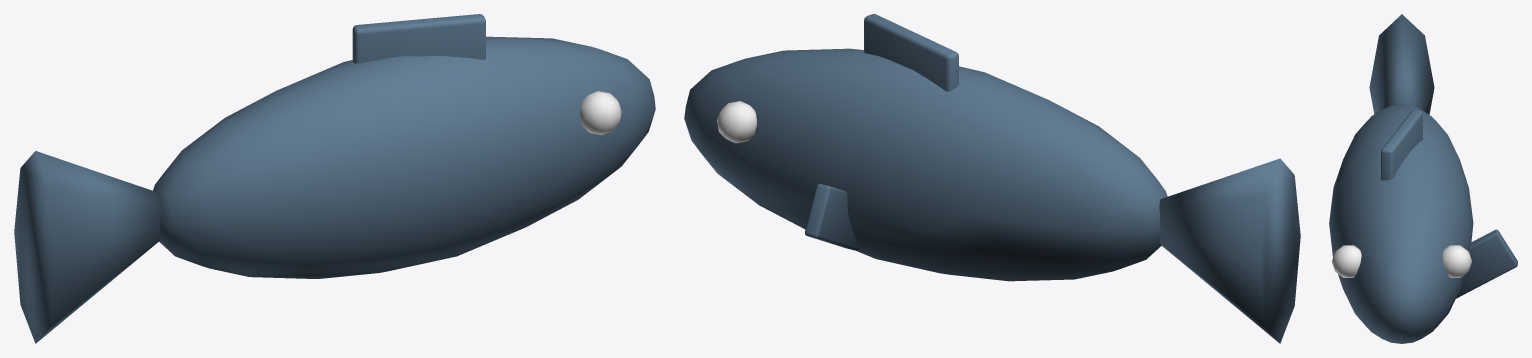
The model's file is raw-fish.obj.
3 renders of one model, left to right at view 1: azimuth 30°, elevation 25°; view 2: azimuth 150°, elevation 25°; view 3: azimuth 270°, elevation 25°, orthographic. The views are drawn at different scales.
Parts seen in each view (by area): view 1: raw-fish; view 2: raw-fish; view 3: raw-fish.
Boxes of the visible parts, x1,y1,x2,y2 form: raw-fish: (14, 14, 655, 343); raw-fish: (684, 14, 1300, 343); raw-fish: (1329, 14, 1517, 343).
Bounding box in the file's own units: 0.6368 × 0.231 × 0.2205.
